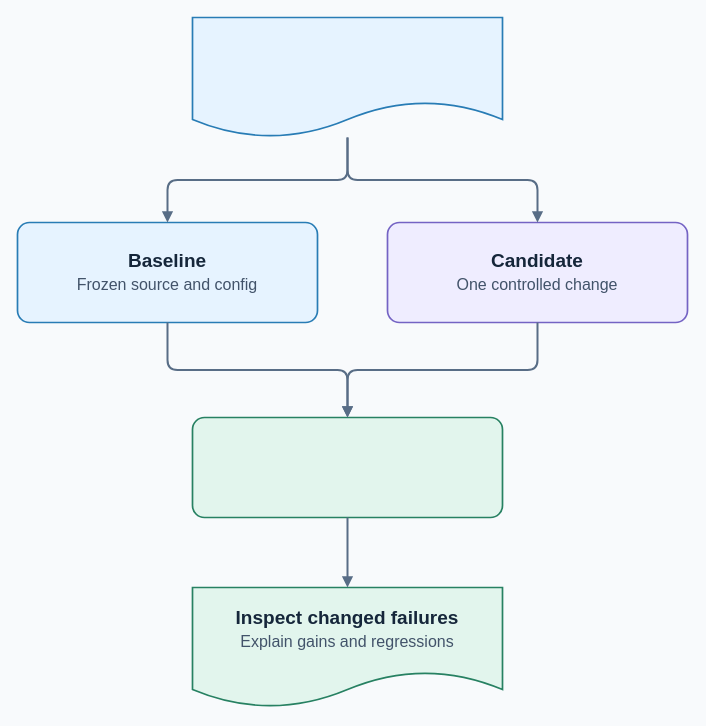
Some shapes in this 706 by 726 pixel diagram are drawn without their labels. Each missing label, with the box of its shape:
Compare each case Retrieval · context · answer: (191, 416, 503, 518)
Fixed evaluation set Questions + evidence labels: (191, 16, 503, 138)
